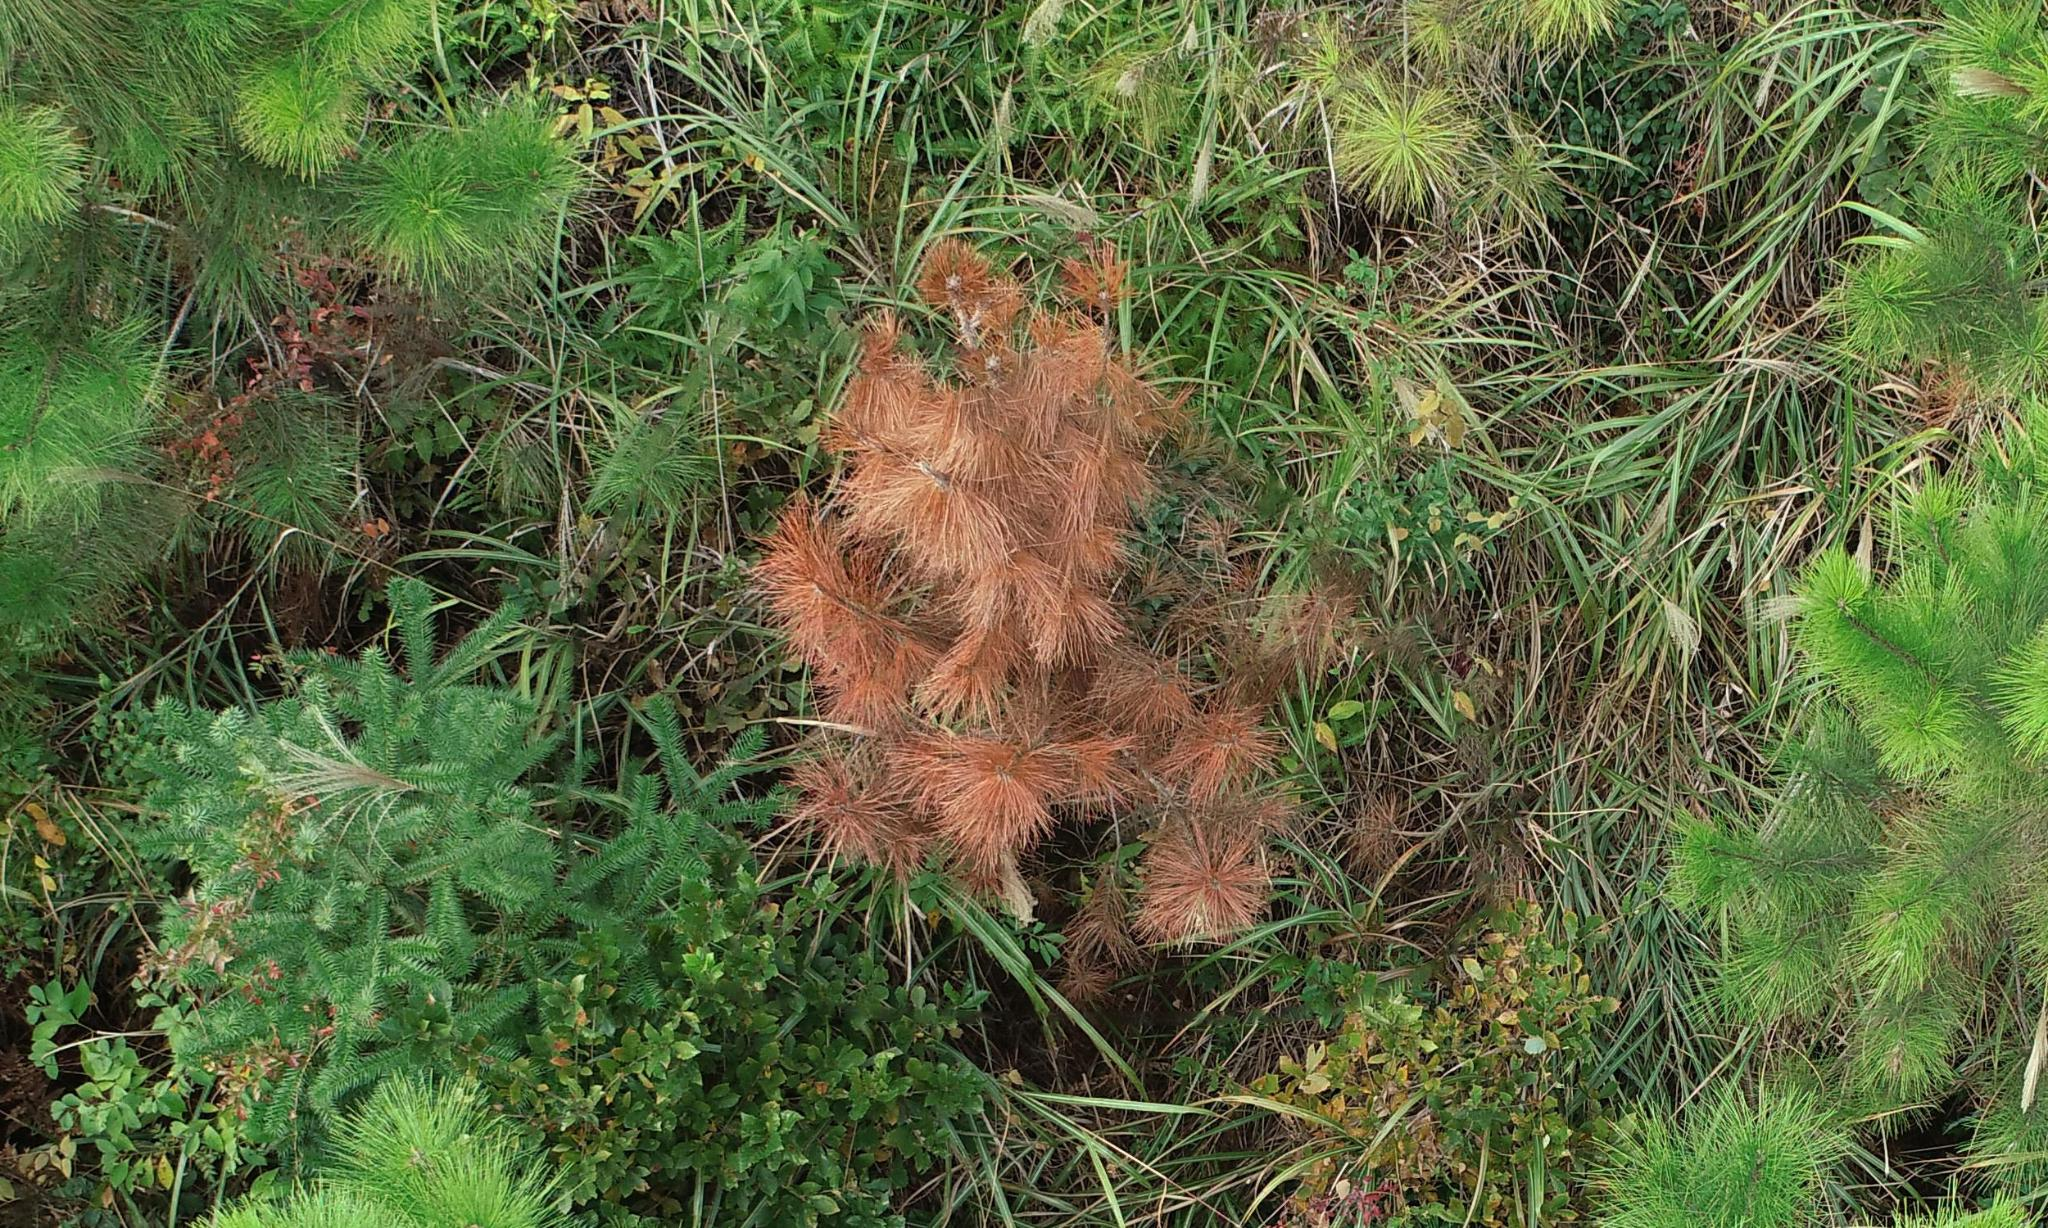heavy: (754, 241, 1286, 946)
